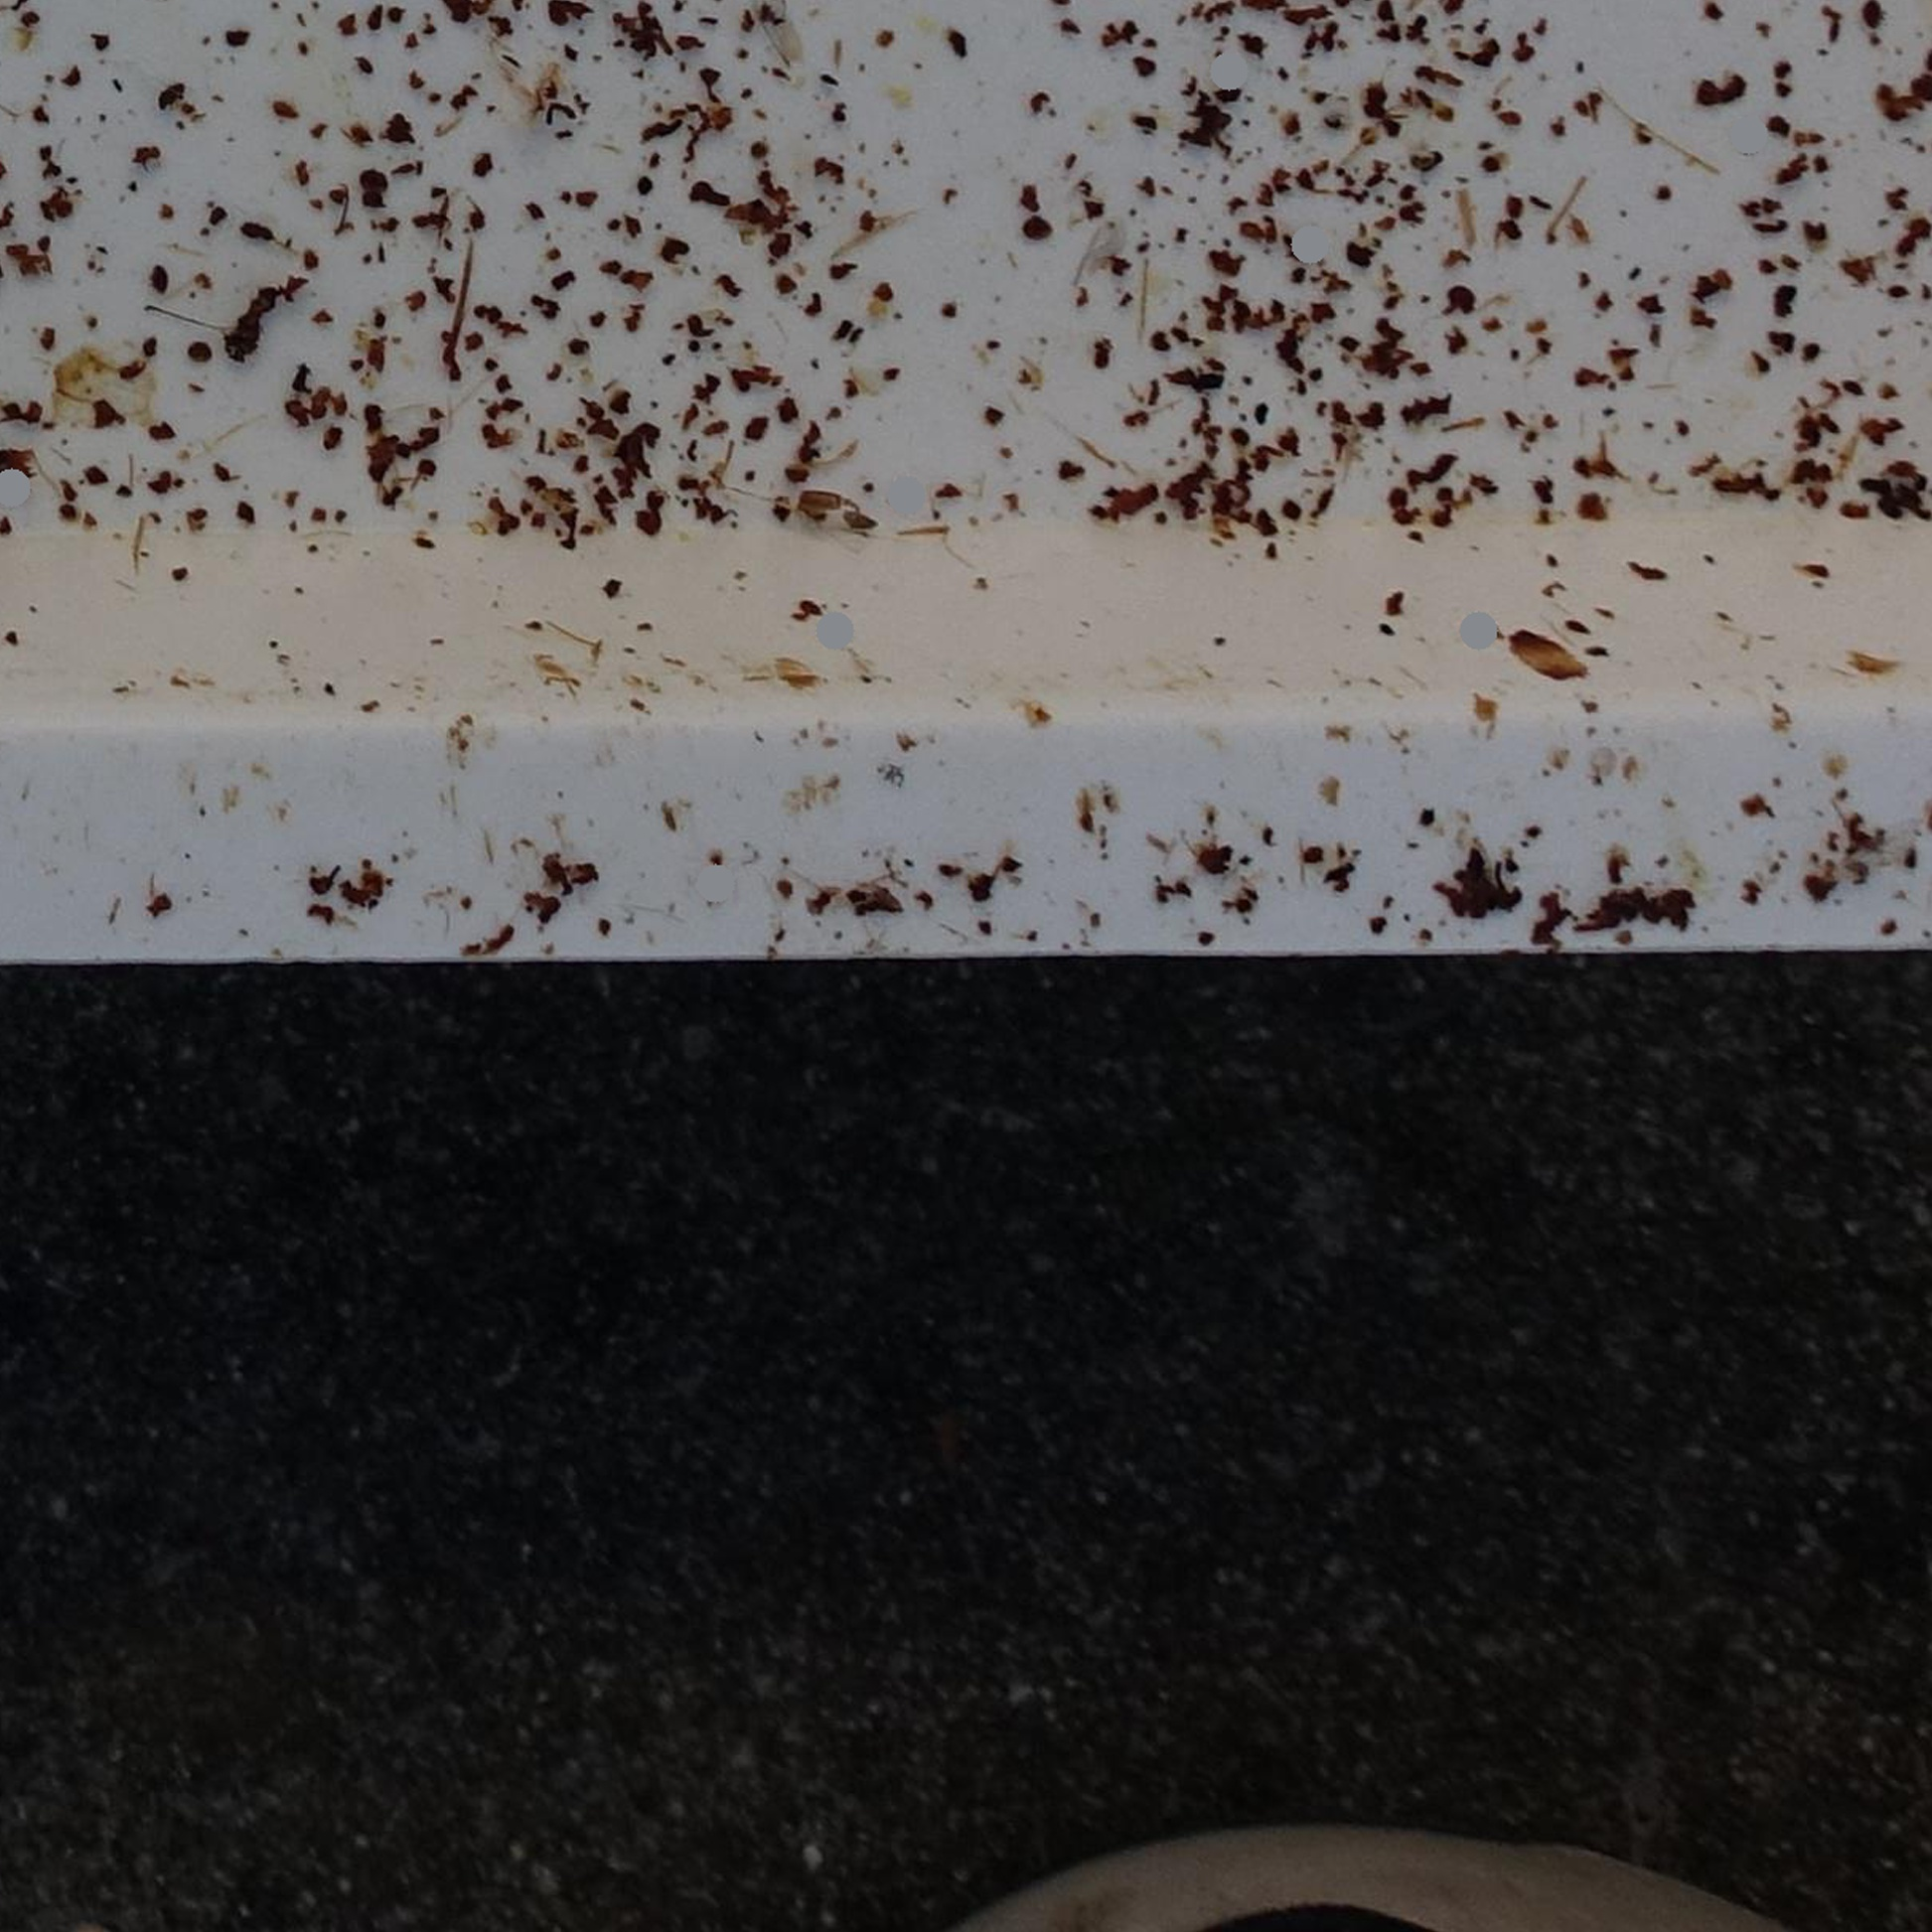Varroa: (150, 269, 173, 294), (363, 173, 386, 196), (1028, 216, 1047, 237), (1863, 4, 1882, 25), (191, 341, 209, 361)
